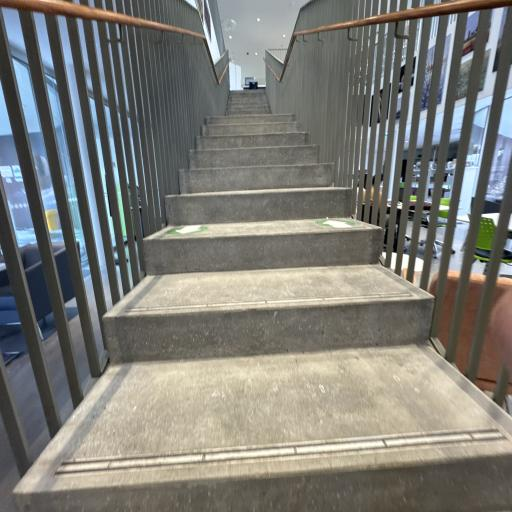Stairs: (14, 90, 512, 512)
